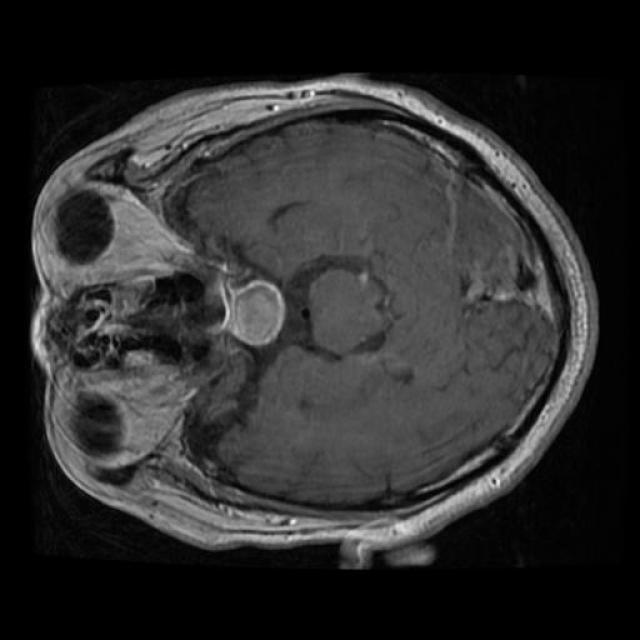Pituitary: (221, 278, 286, 347)
